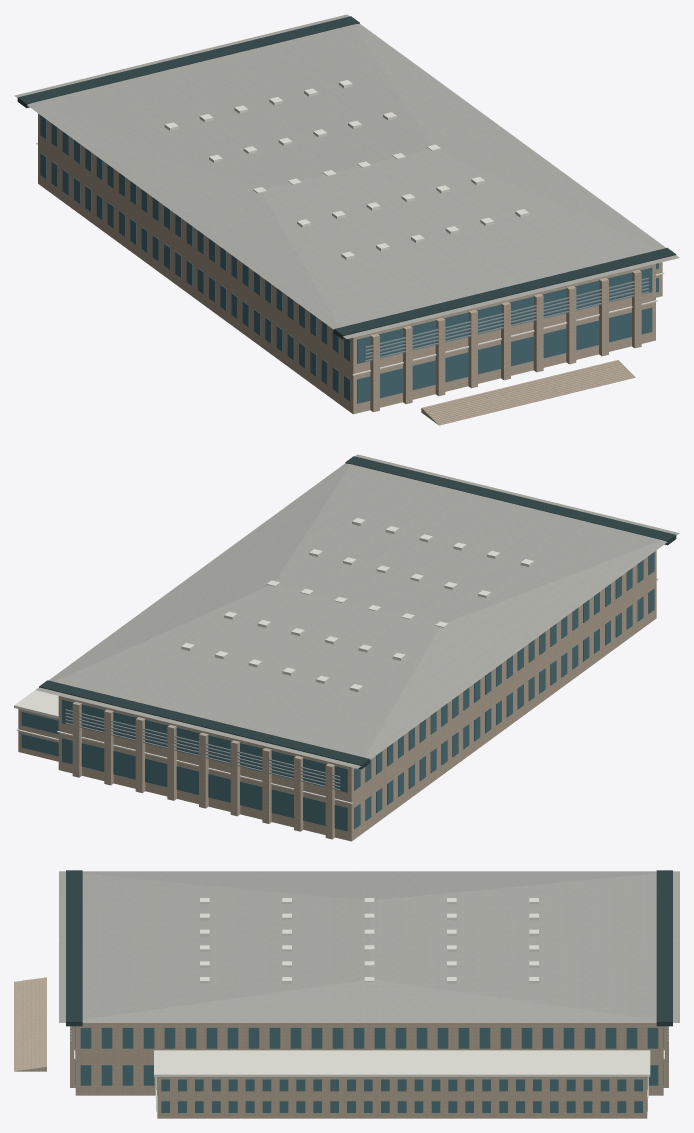
File: stadium.glb
3 renders of one model, top to bottom at view 1: azimuth 30°, elevation 25°; view 2: azimuth 150°, elevation 25°; view 3: azimuth 270°, elevation 25°, orthographic. The views are drawn at different scales.
Visible parts, largest first — view 1: landmark-stadium; view 2: landmark-stadium; view 3: landmark-stadium.
Part boxes in pixels (box(x1,y1,x2,y2)): landmark-stadium: box(14, 14, 679, 425); landmark-stadium: box(14, 454, 679, 841); landmark-stadium: box(14, 870, 679, 1118).
Size of the model in its own units: 97.08 by 23.37 by 162.
Materials: 6 (2 with a texture image).
